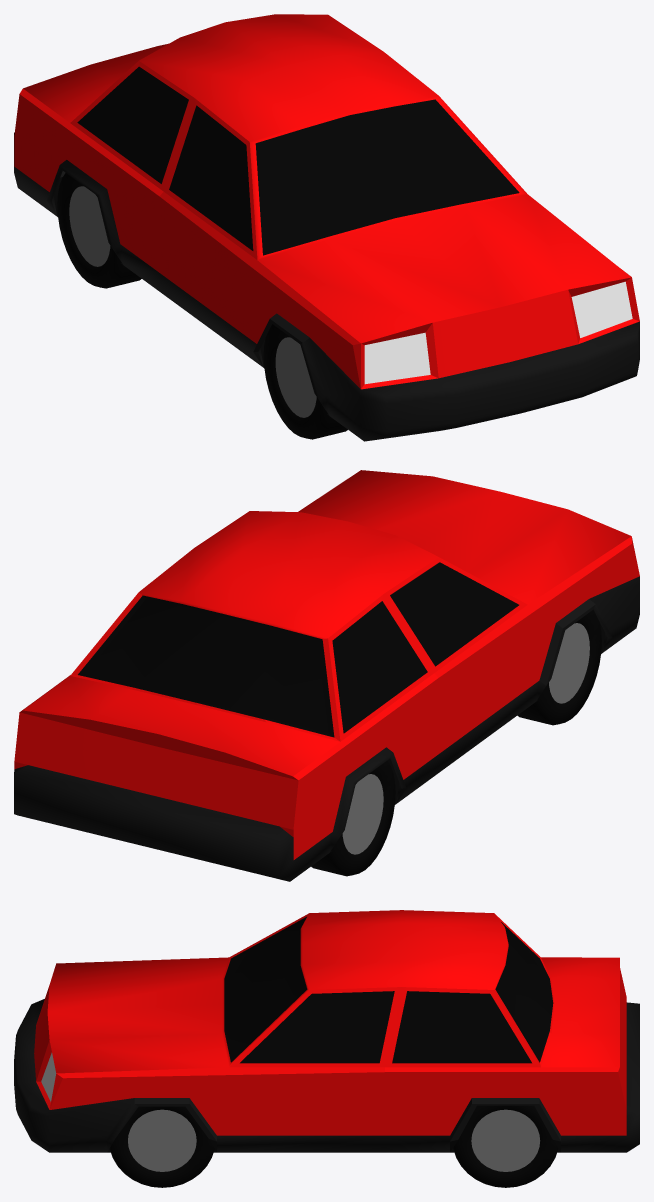
The model's file is NewCar.obj.
3 renders of one model, top to bottom at view 1: azimuth 30°, elevation 25°; view 2: azimuth 150°, elevation 25°; view 3: azimuth 270°, elevation 25°, orthographic. The views are drawn at different scales.
Visible parts, largest first — view 1: Car_Cube; view 2: Car_Cube; view 3: Car_Cube.
Boxes of the visible parts, bbox=[...] form: Car_Cube: bbox=[14, 14, 639, 441]; Car_Cube: bbox=[14, 470, 639, 881]; Car_Cube: bbox=[14, 910, 639, 1187].
Bounding box in the file's own units: 2.1 × 1.59 × 4.66.
